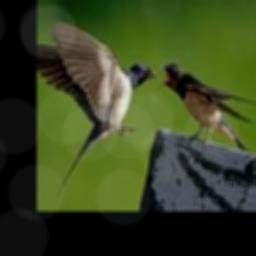Swallow: (37, 19, 156, 199), (160, 62, 256, 152)
